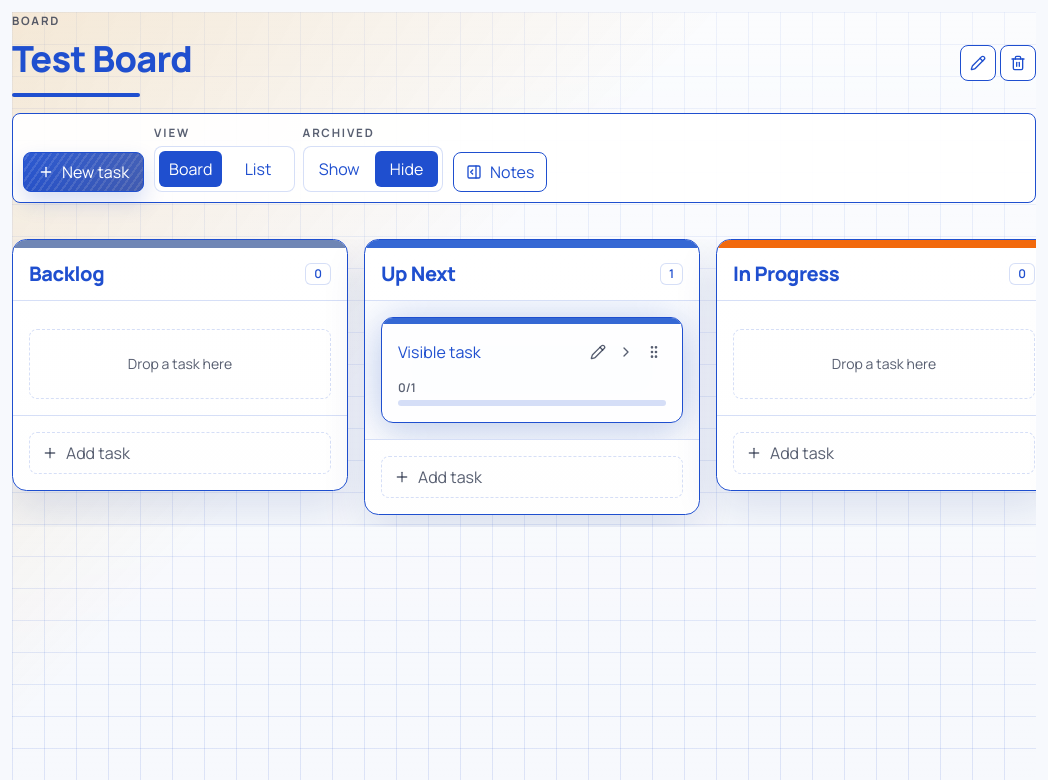
Test case: BoardWorkspace subtask panel granular API › keeps the panel open for other keys and closes it on Escape
Click the button named "Open subtasks menu" at (626, 352), box [614, 340, 638, 364]
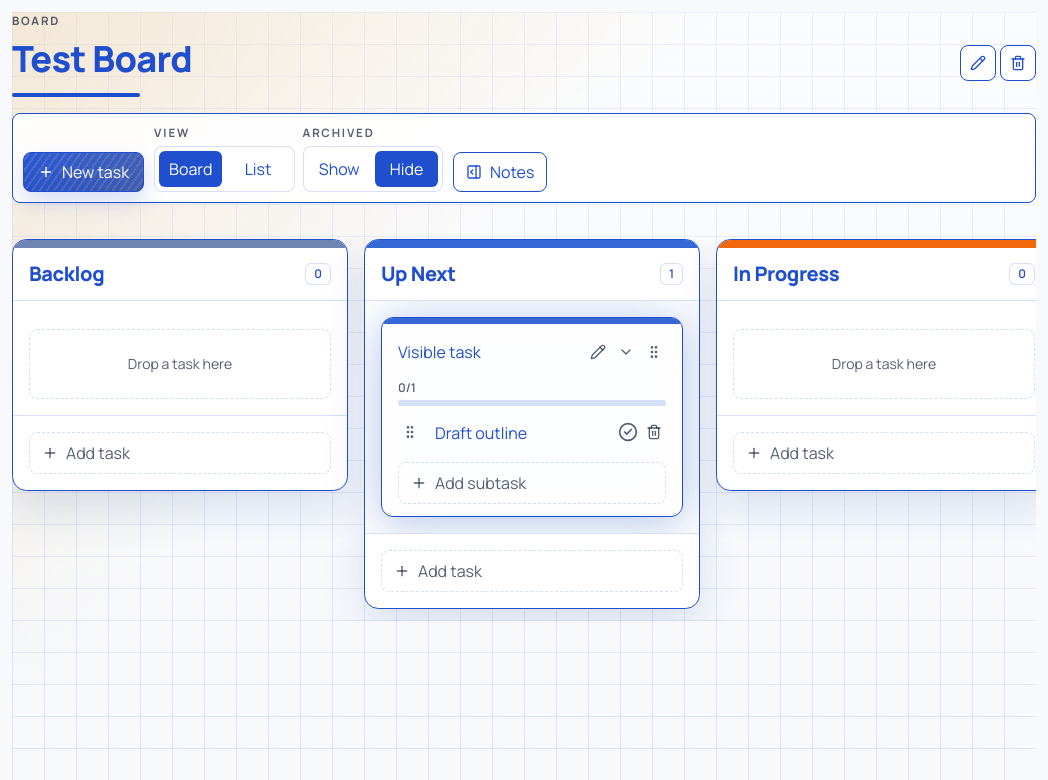
Check: the element named "Subtasks for Visible task" is shown, box [382, 414, 682, 516]
Press Enter
Check: the element named "Subtasks for Visible task" is shown, box [382, 414, 682, 516]
Press Escape
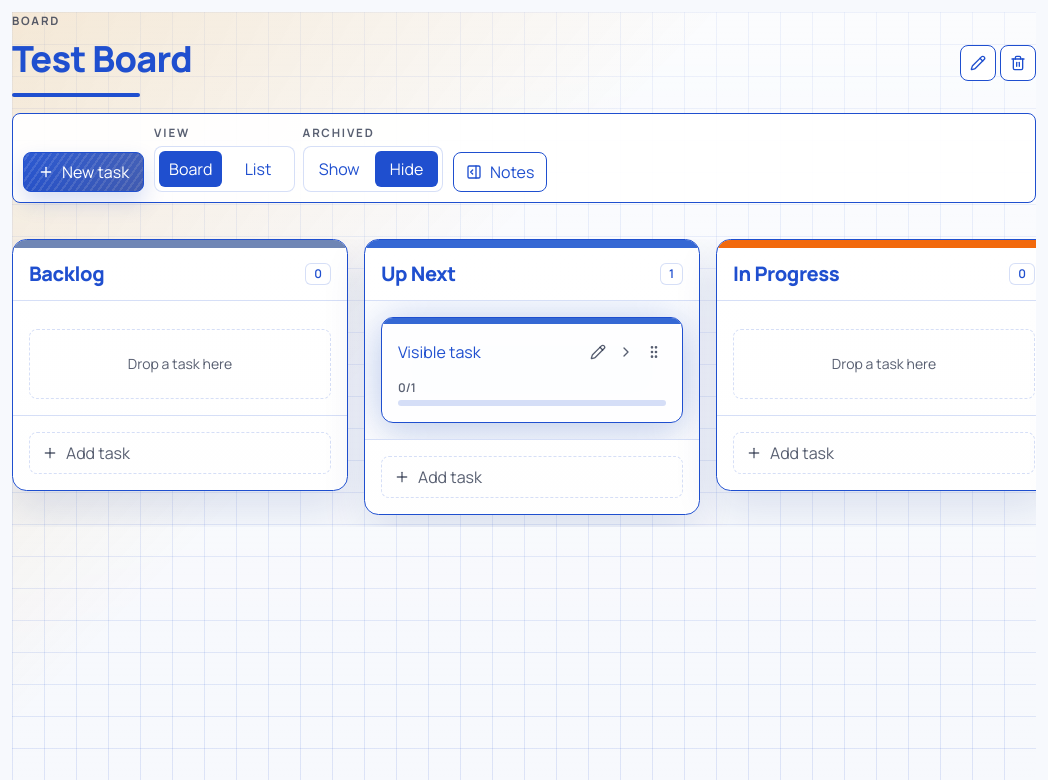
Check: the button named "Open subtasks menu" is shown, box [614, 340, 638, 364]
